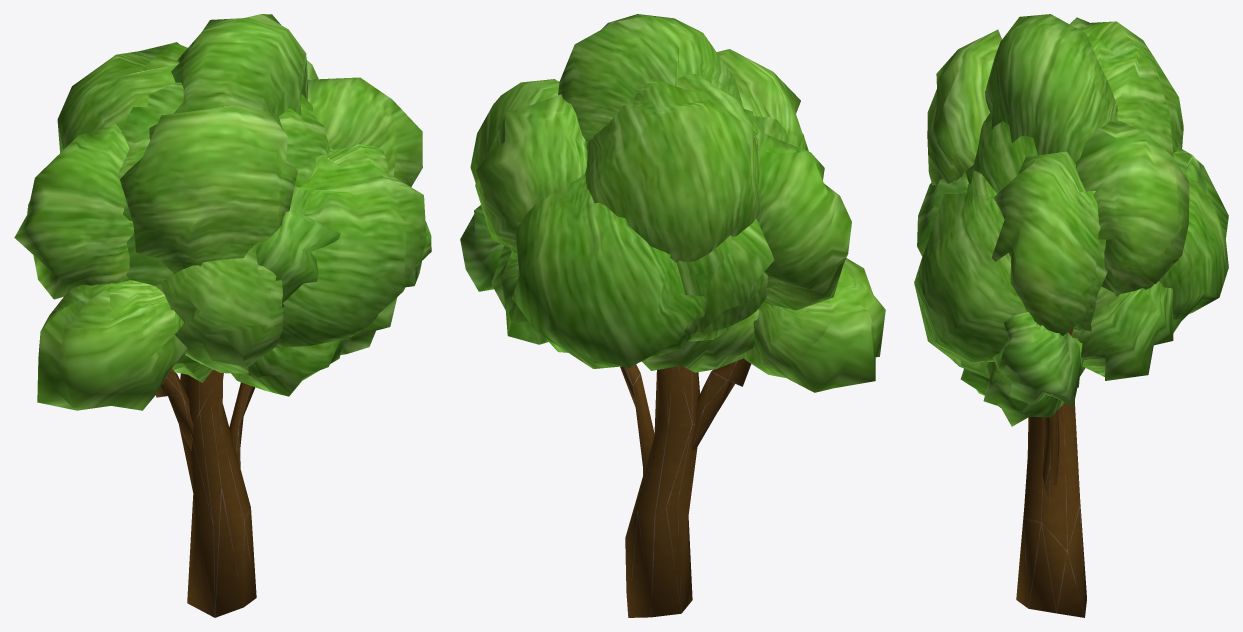
File: arbol.glb
The picture shows the model from 3 angles, left to right: view 1: azimuth 30°, elevation 25°; view 2: azimuth 150°, elevation 25°; view 3: azimuth 270°, elevation 25°; orthographic projection.
Visible parts, largest first — view 1: model_0_7, model_1_6, model_2.003_5; view 2: model_1_6, model_0_7, model_2.003_5; view 3: model_0_7, model_1_6, model_2.003_5.
Boxes of the visible parts, <box> form: model_0_7: <box>14,14,426,410</box>; model_1_6: <box>57,42,431,396</box>; model_2.003_5: <box>156,369,256,617</box>; model_1_6: <box>460,74,789,368</box>; model_0_7: <box>475,14,885,392</box>; model_2.003_5: <box>620,358,751,617</box>; model_0_7: <box>914,14,1189,426</box>; model_1_6: <box>917,17,1228,407</box>; model_2.003_5: <box>1016,328,1086,617</box>.
Size of the model in its own units: 0.1239 by 0.1748 by 0.084.
3 materials, 3 textured.
